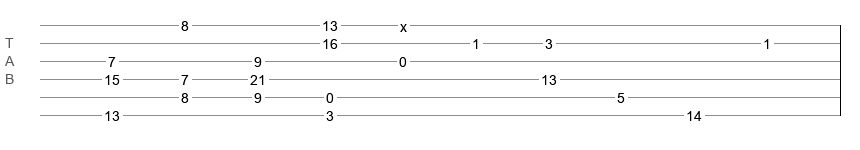0: (326, 90, 334, 100), (399, 54, 407, 64)
1: (472, 36, 480, 46), (763, 36, 771, 46)
13: (104, 108, 120, 118), (322, 18, 338, 28), (541, 72, 557, 82)
14: (686, 108, 702, 118)
15: (104, 72, 120, 82)
16: (322, 36, 338, 46)
21: (250, 72, 266, 82)
3: (326, 108, 334, 118), (545, 36, 553, 46)
5: (617, 90, 625, 100)
7: (108, 54, 116, 64), (181, 72, 189, 82)
8: (181, 90, 189, 100), (181, 18, 189, 28)
9: (254, 54, 262, 64), (254, 90, 262, 100)
x: (400, 19, 407, 27)
